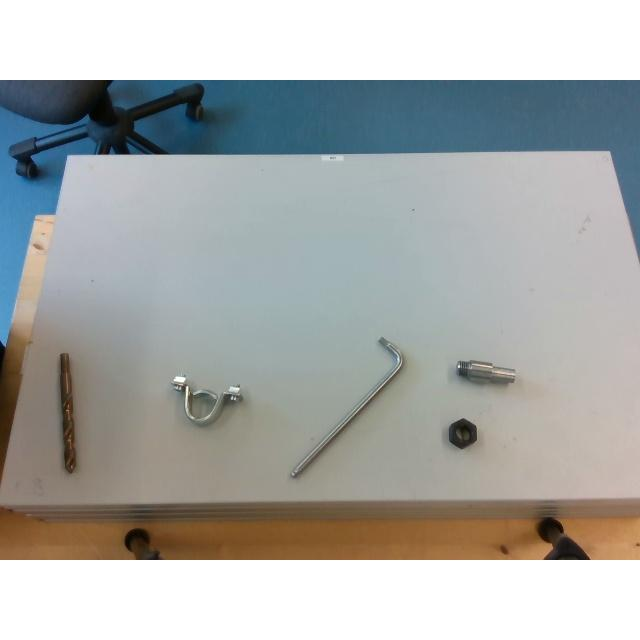AllenKey: (288, 336, 404, 476)
Axis2: (456, 361, 516, 384)
Drill: (60, 353, 76, 473)
Housing: (170, 376, 242, 424)
M20: (448, 418, 477, 448)
